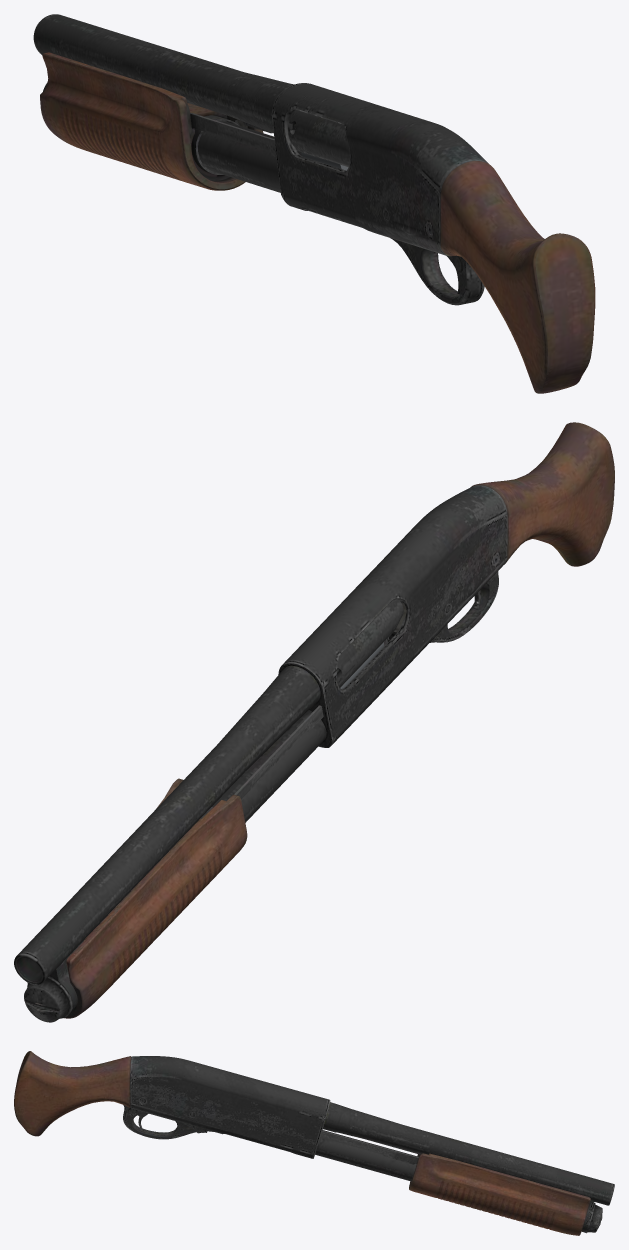
The model's file is p_sawedoff.glb.
The picture shows the model from 3 angles, top to bottom: view 1: azimuth 30°, elevation 25°; view 2: azimuth 150°, elevation 25°; view 3: azimuth 270°, elevation 25°; orthographic projection. The views are drawn at different scales.
Parts seen in each view (by area): view 1: p_sawedoff; view 2: p_sawedoff; view 3: p_sawedoff.
Part boxes in pixels (left/top/right/bottom): p_sawedoff: left=33, top=14, right=595, bottom=393; p_sawedoff: left=14, top=422, right=614, bottom=1022; p_sawedoff: left=14, top=1051, right=614, bottom=1235.
Size of the model in its own units: 0.115 by 0.2551 by 0.8513.
Materials: 2 (1 with a texture image).
